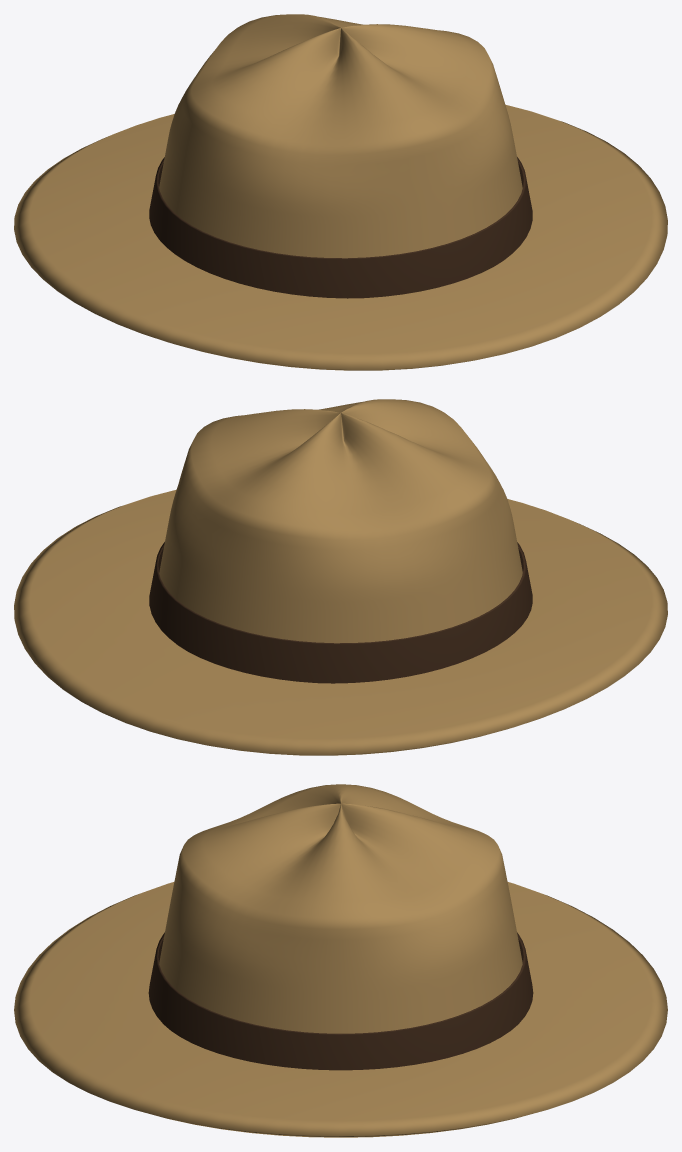
Rendered from ranger_hat.obj.
The picture shows the model from 3 angles, top to bottom: view 1: azimuth 30°, elevation 25°; view 2: azimuth 150°, elevation 25°; view 3: azimuth 270°, elevation 25°; orthographic projection.
Visible parts, largest first — view 1: Brim, Crown, Band; view 2: Brim, Crown, Band; view 3: Brim, Crown, Band.
Part boxes in pixels (<box>): Brim: <box>14,104,667,370</box>; Crown: <box>159,14,522,258</box>; Band: <box>149,157,532,298</box>; Brim: <box>14,489,667,755</box>; Crown: <box>159,399,522,643</box>; Band: <box>149,542,532,683</box>; Brim: <box>14,882,667,1137</box>; Crown: <box>159,784,522,1033</box>; Band: <box>148,932,533,1070</box>.
Size of the model in its own units: 2.44 by 0.8802 by 2.44.
